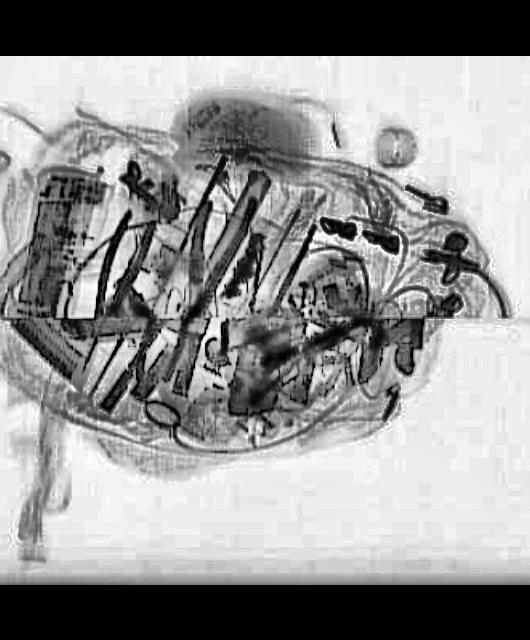Pliers: (142, 186, 263, 392), (65, 206, 165, 380)
